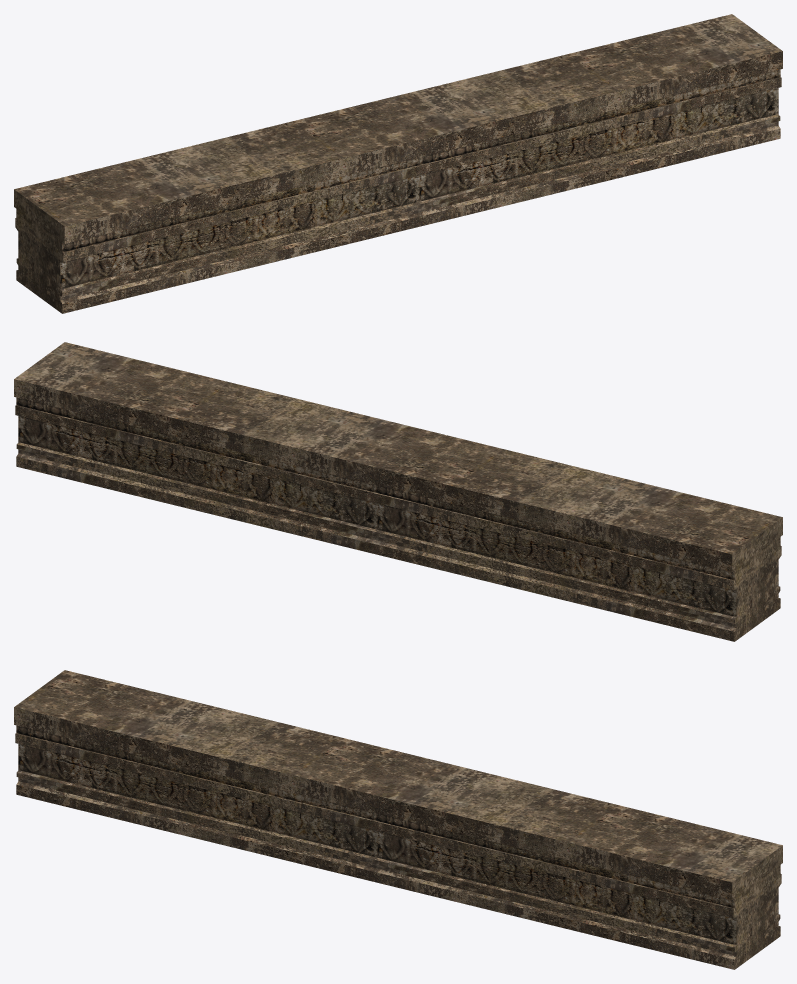
The model's file is materials_5_stonestick_middle_3.fbx.
The picture shows the model from 3 angles, top to bottom: view 1: azimuth 30°, elevation 25°; view 2: azimuth 150°, elevation 25°; view 3: azimuth 330°, elevation 25°; orthographic projection.
Visible parts, largest first — view 1: materials_5_stonestick_middle_3; view 2: materials_5_stonestick_middle_3; view 3: materials_5_stonestick_middle_3.
Boxes of the visible parts, left/top/right/bottom form: materials_5_stonestick_middle_3: left=14, top=14, right=782, bottom=313; materials_5_stonestick_middle_3: left=14, top=342, right=782, bottom=641; materials_5_stonestick_middle_3: left=14, top=670, right=782, bottom=969.
Bounding box in the file's own units: 192 × 22.86 × 23.57.
